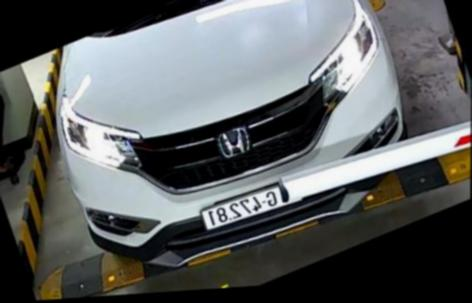License_Plate: (197, 176, 288, 240)
